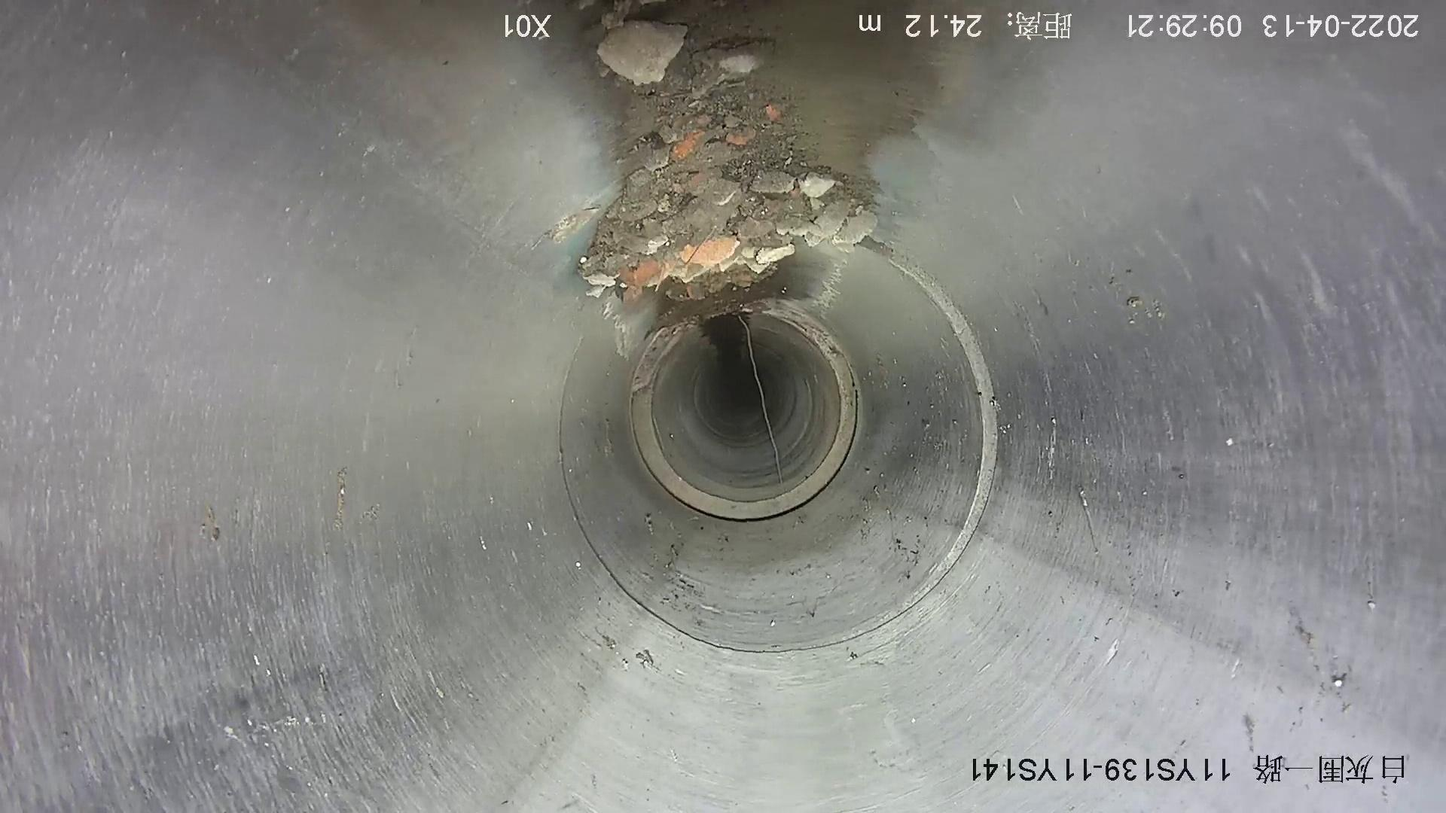CJ: (579, 1, 876, 303)
CKTJ: (552, 229, 1004, 657), (627, 300, 861, 527)
